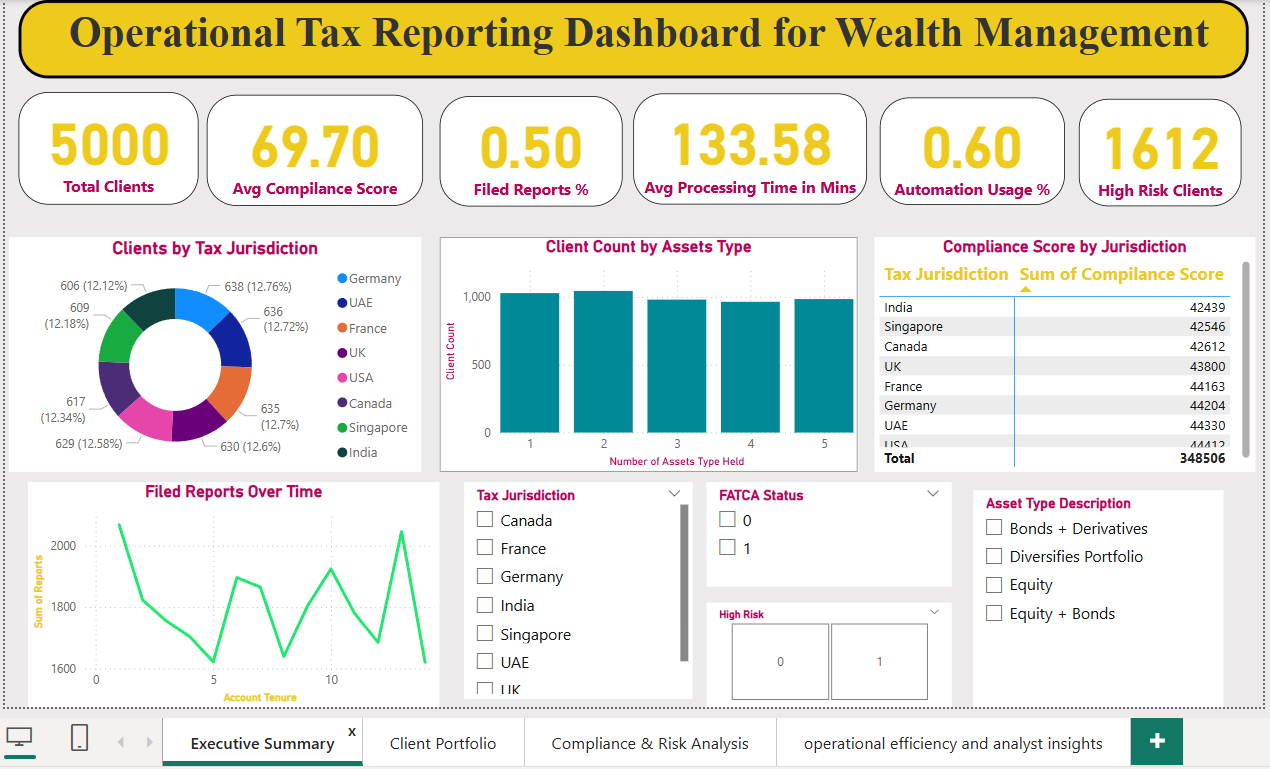

The page's visual inventory and layout, read from the dashboard file:
{"tool":"powerbi","page":{"name":"Executive Summary","canvas":[1280,720],"ordinal":0},"visuals":[{"type":"card","fields":{"Values":["CountNonNull(tax_compliance_dataset_5000.Client ID)"]},"box":[13.8,93.7,183.3,114.4],"z":0},{"type":"card","fields":{"Values":["Avg(tax_compliance_dataset_5000.Compilance Score)"]},"box":[205,96.9,220,113.1],"z":1000},{"type":"card","fields":{"Values":["ClientData.Filed Reports %"]},"box":[441.9,97.5,186.2,112.5],"z":2000},{"type":"textbox","box":[13.3,0,1251.5,79.8],"z":3000},{"type":"card","fields":{"Values":["Avg(ClientData.Processing Time in Minutes)"]},"box":[640,95.6,237.5,113.1],"z":4000},{"type":"card","fields":{"Values":["ClientData.Automation Usage %"]},"box":[890.6,99.4,188.1,109.4],"z":5000},{"type":"card","fields":{"Values":["ClientData.High Risk Clients"]},"box":[1092.5,100.6,165.6,109.4],"z":6000},{"type":"donutChart","title":"Clients by Tax Jurisdiction","fields":{"Y":["CountNonNull(ClientData.Client ID)"],"Category":["ClientData.Tax  Jurisdiction"]},"box":[4.5,240.9,419.7,239.4],"z":7000},{"type":"clusteredColumnChart","fields":{"Y":["CountNonNull(ClientData.Client ID)"],"Category":["ClientData.Assets Type"]},"box":[442.4,240.9,425.8,239.4],"z":8000},{"type":"pivotTable","title":"Compliance Score by Jurisdiction","fields":{"Rows":["ClientData.Tax  Jurisdiction"],"Values":["Sum(ClientData.Compilance Score)"]},"box":[884.8,240.9,387.9,239.4],"z":9000},{"type":"lineChart","title":"Filed Reports Over Time","fields":{"Category":["ClientData.Account Tenure"],"Y":["Sum(ClientData.Reports)"]},"box":[23.4,490.5,418.9,230.1],"z":10000},{"type":"slicer","fields":{"Values":["ClientData.Tax  Jurisdiction"]},"box":[467.1,490.5,232.9,220.5],"z":11000},{"type":"slicer","fields":{"Values":["ClientData.FATCA Status"]},"box":[713.7,490.5,249.4,106.1],"z":12000},{"type":"slicer","fields":{"Values":["ClientData.Compliance Flag"]},"box":[713.7,613.2,249.4,106.1],"z":13000},{"type":"slicer","fields":{"Values":["ClientData.Asset Type Description"]},"box":[985.2,498.8,254.9,220.5],"z":14000}]}

Visuals, with their boxes on the page's 1280x720 design canvas (x1, y1, x2, y2). These are canvas units, not pixel positions in the 1270x769 screenshot, which may show the page scaled, cropped or inside an application window:
card - CountNonNull(tax_compliance_dataset_5000.Client ID): pyautogui.locateOnScreen(14, 94, 197, 208)
card - Avg(tax_compliance_dataset_5000.Compilance Score): pyautogui.locateOnScreen(205, 97, 425, 210)
card - ClientData.Filed Reports %: pyautogui.locateOnScreen(442, 98, 628, 210)
textbox: pyautogui.locateOnScreen(13, 0, 1265, 80)
card - Avg(ClientData.Processing Time in Minutes): pyautogui.locateOnScreen(640, 96, 878, 209)
card - ClientData.Automation Usage %: pyautogui.locateOnScreen(891, 99, 1079, 209)
card - ClientData.High Risk Clients: pyautogui.locateOnScreen(1092, 101, 1258, 210)
"Clients by Tax Jurisdiction" donutChart: pyautogui.locateOnScreen(4, 241, 424, 480)
clusteredColumnChart - CountNonNull(ClientData.Client ID) x ClientData.Assets Type: pyautogui.locateOnScreen(442, 241, 868, 480)
"Compliance Score by Jurisdiction" pivotTable: pyautogui.locateOnScreen(885, 241, 1273, 480)
"Filed Reports Over Time" lineChart: pyautogui.locateOnScreen(23, 490, 442, 721)
slicer - ClientData.Tax  Jurisdiction: pyautogui.locateOnScreen(467, 490, 700, 711)
slicer - ClientData.FATCA Status: pyautogui.locateOnScreen(714, 490, 963, 597)
slicer - ClientData.Compliance Flag: pyautogui.locateOnScreen(714, 613, 963, 719)
slicer - ClientData.Asset Type Description: pyautogui.locateOnScreen(985, 499, 1240, 719)
